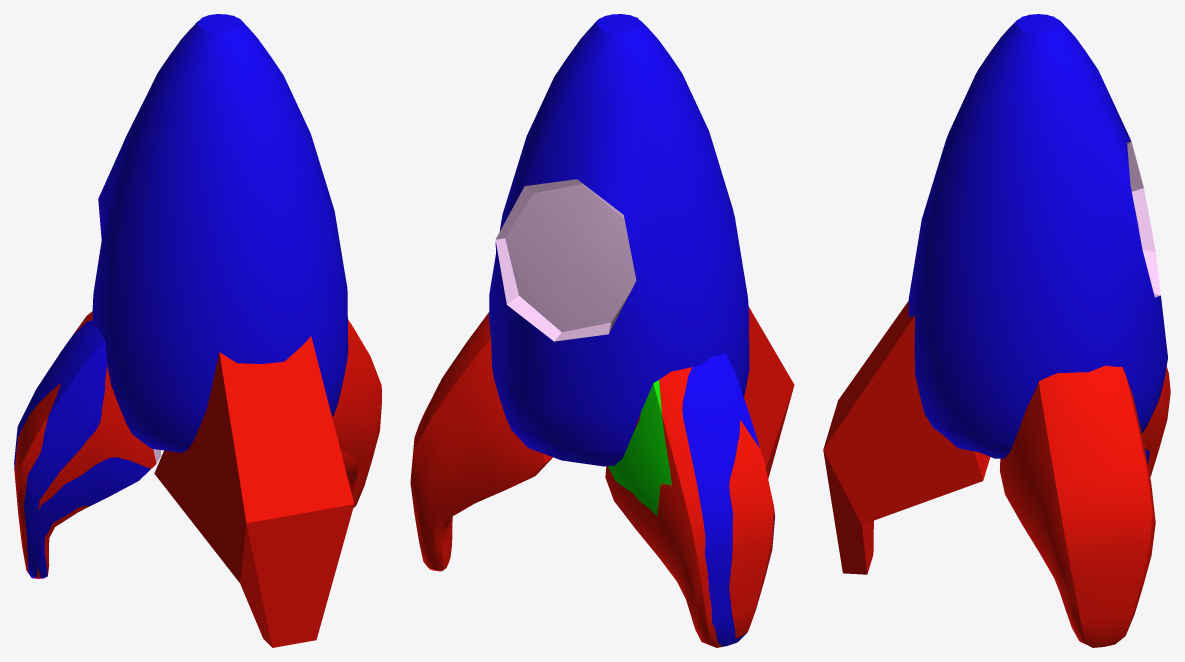
The model's file is juguetequest3.fbx.
3 views of the same model, side by side, from view 1: azimuth 30°, elevation 25°; view 2: azimuth 150°, elevation 25°; view 3: azimuth 270°, elevation 25° (orthographic).
Visible parts, largest first — view 1: Cylinder; view 2: Cylinder; view 3: Cylinder.
Boxes of the visible parts, <box> form: Cylinder: <box>14,14,381,647</box>; Cylinder: <box>410,14,794,647</box>; Cylinder: <box>823,14,1170,647</box>.
Size of the model in its own units: 389 by 578 by 330.
